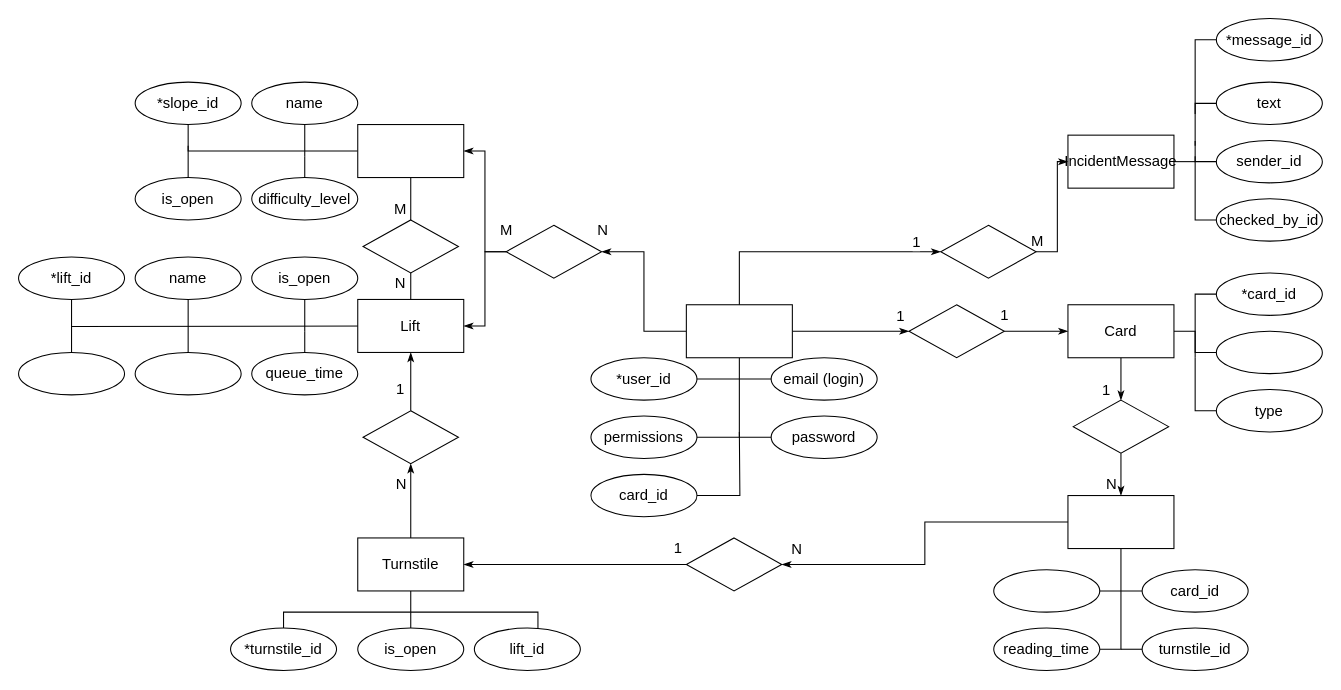
This 1341x690 diagram has some shape labels left out. Each missing label, with the centre of its shape:
*record_id: point (1046, 590)
activation_date: point (1268, 352)
belongs to: point (410, 437)
CardReading: point (1120, 521)
Chooses: point (553, 251)
Connected: point (410, 246)
lifting_time: point (187, 373)
on: point (733, 564)
owns: point (956, 331)
passes: point (1120, 426)
seats_amount: point (71, 373)
Sends/reads: point (988, 251)
Slope: point (410, 150)
User: point (738, 331)
